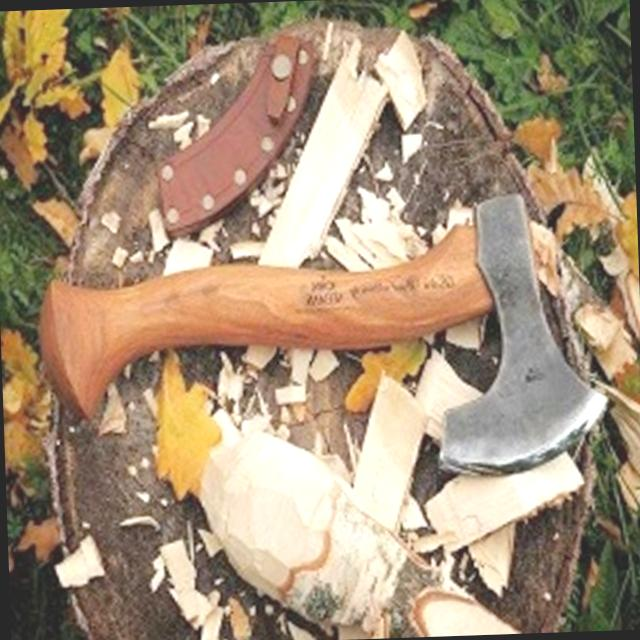ax: (24, 177, 622, 502)
